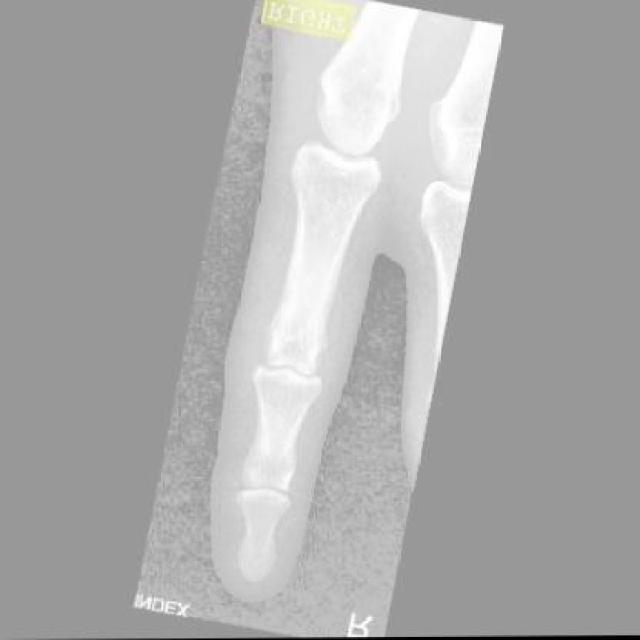Fracture: (263, 302, 329, 366)
